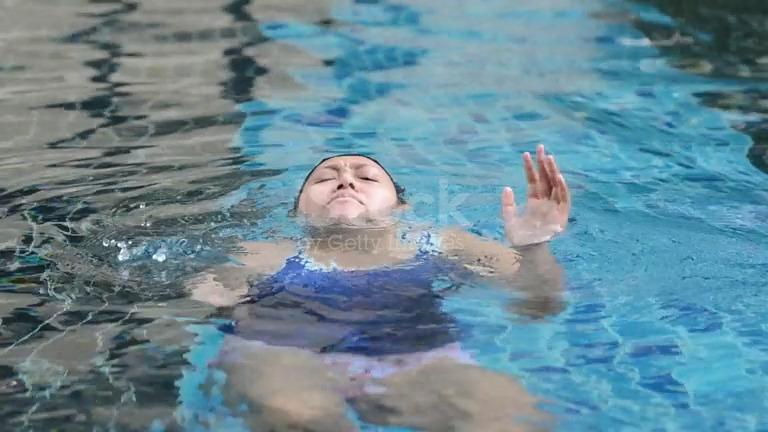Drowning: (61, 67, 629, 358)
